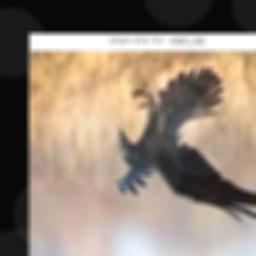Crow: (116, 67, 256, 226)
